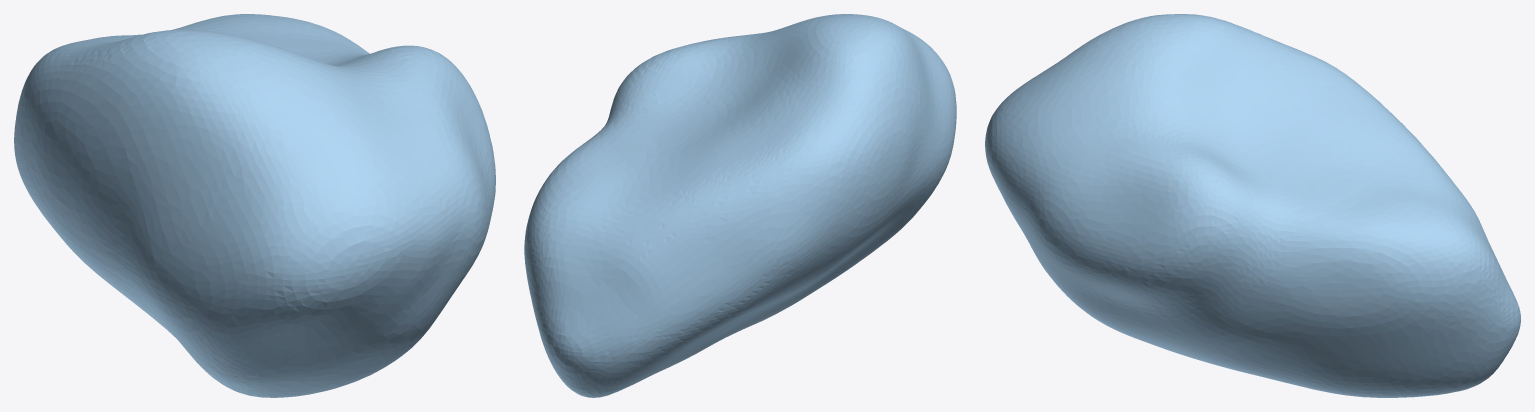
The picture shows the model from 3 angles, left to right: view 1: azimuth 30°, elevation 25°; view 2: azimuth 150°, elevation 25°; view 3: azimuth 270°, elevation 25°; orthographic projection. The views are drawn at different scales.
Visible parts, largest first — view 1: world; view 2: world; view 3: world.
Part boxes in pixels (left/top/right/bottom): world: left=14, top=14, right=495, bottom=397; world: left=524, top=14, right=956, bottom=397; world: left=985, top=14, right=1520, bottom=397.
Size of the model in its own units: 0.5608 by 0.5606 by 0.8766.
